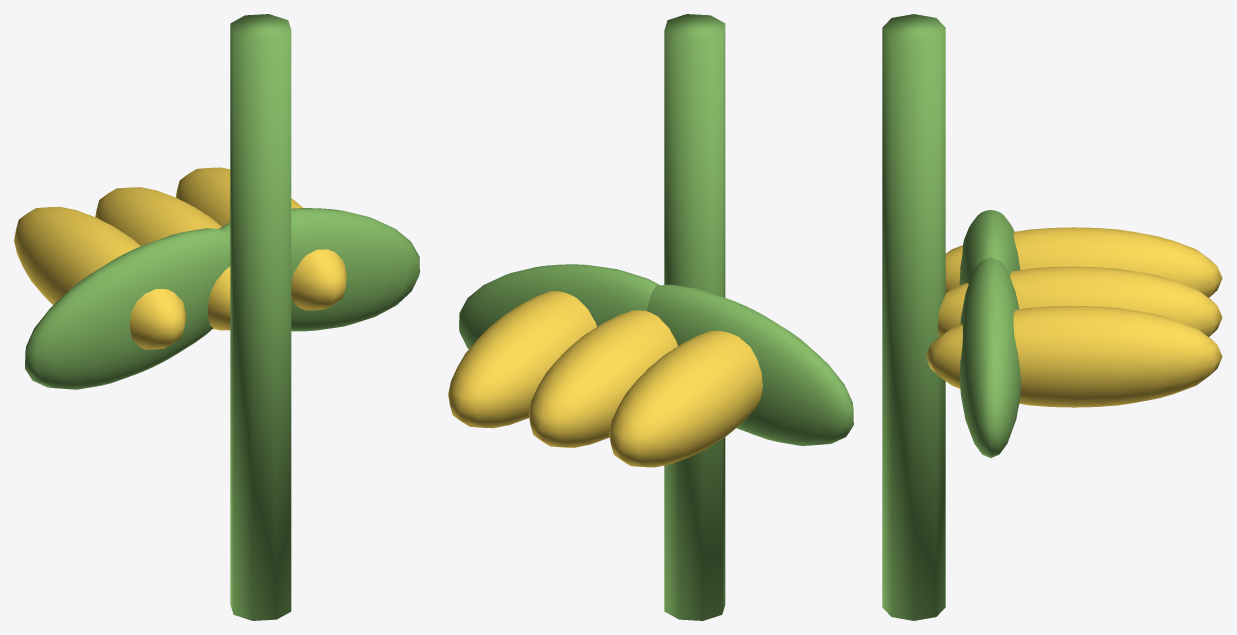
The model's file is corn_harvest_item.glb.
3 renders of one model, left to right at view 1: azimuth 30°, elevation 25°; view 2: azimuth 150°, elevation 25°; view 3: azimuth 270°, elevation 25°, orthographic.
Parts seen in each view (by area): view 1: Stem, Leaf, Leaf.001, Cob, Cob.001, Cob.002; view 2: Stem, Cob, Leaf, Cob.001, Cob.002, Leaf.001; view 3: Stem, Cob.002, Leaf.001, Cob.001, Cob, Leaf.
Part boxes in pixels (<box>): Stem: <box>230,14,291,620</box>; Leaf: <box>25,228,230,389</box>; Leaf.001: <box>219,208,419,331</box>; Cob: <box>14,206,186,349</box>; Cob.001: <box>95,187,230,330</box>; Cob.002: <box>175,167,347,310</box>; Stem: <box>664,14,725,620</box>; Cob: <box>609,331,762,467</box>; Leaf: <box>647,284,853,445</box>; Cob.001: <box>528,310,677,447</box>; Cob.002: <box>448,291,596,428</box>; Leaf.001: <box>459,264,659,348</box>; Stem: <box>882,14,945,620</box>; Cob.002: <box>925,306,1222,407</box>; Leaf.001: <box>959,257,1021,457</box>; Cob.001: <box>937,266,1222,336</box>; Cob: <box>945,227,1222,297</box>; Leaf: <box>959,210,1020,285</box>.
Size of the model in its own units: 0.4907 by 0.69 by 0.3665.
